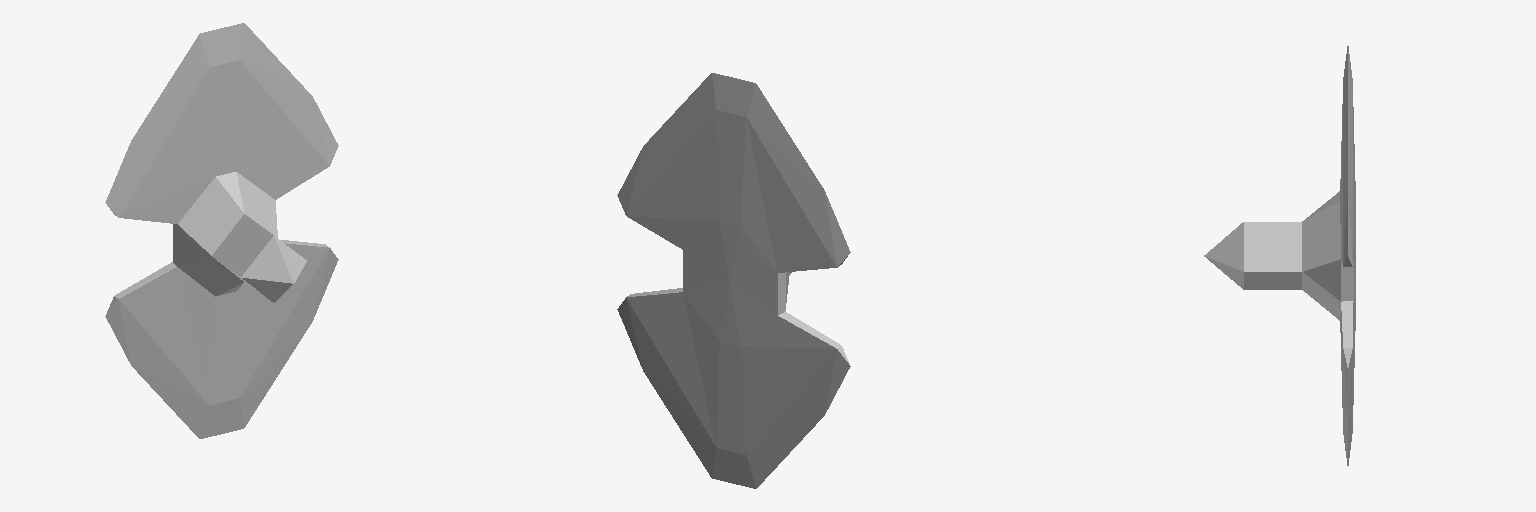
Rendered from ss106_bound.obj.
The picture shows the model from 3 angles: view 1: azimuth 30°, elevation 25°; view 2: azimuth 150°, elevation 25°; view 3: azimuth 270°, elevation 25°; orthographic projection.
Visible parts, largest first — view 1: frm-bound01; view 2: frm-bound01; view 3: frm-bound01.
Boxes of the visible parts, x1=… form: frm-bound01: x1=105, y1=23, x2=338, y2=438; frm-bound01: x1=617, y1=73, x2=850, y2=488; frm-bound01: x1=1204, y1=46, x2=1355, y2=465.
Bounding box in the file's own units: 84.27 × 140 × 47.62.